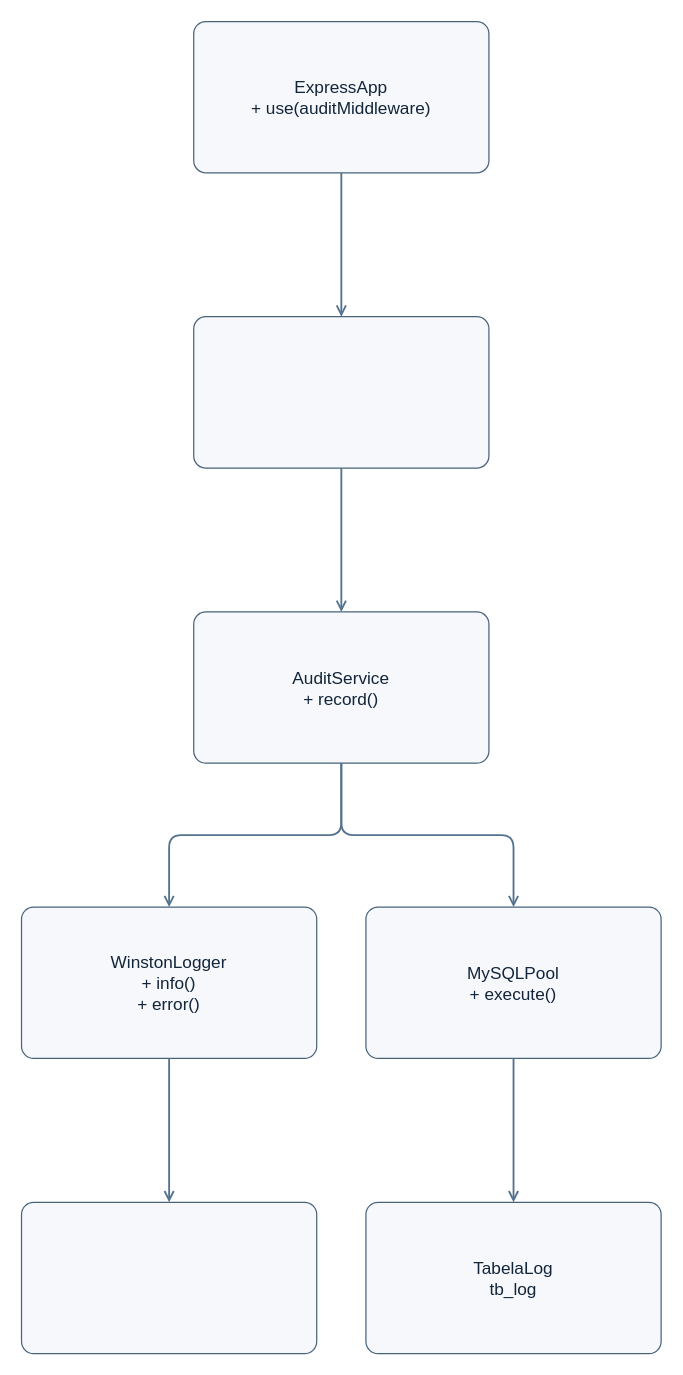
This 683x1375 diagram has some shape labels left out. Each missing label, with the centre of its shape:
AuditMiddleware + auditMiddleware(): the point at 340,391
LogArquivoOuStdout eventos JSON: the point at 168,1277
